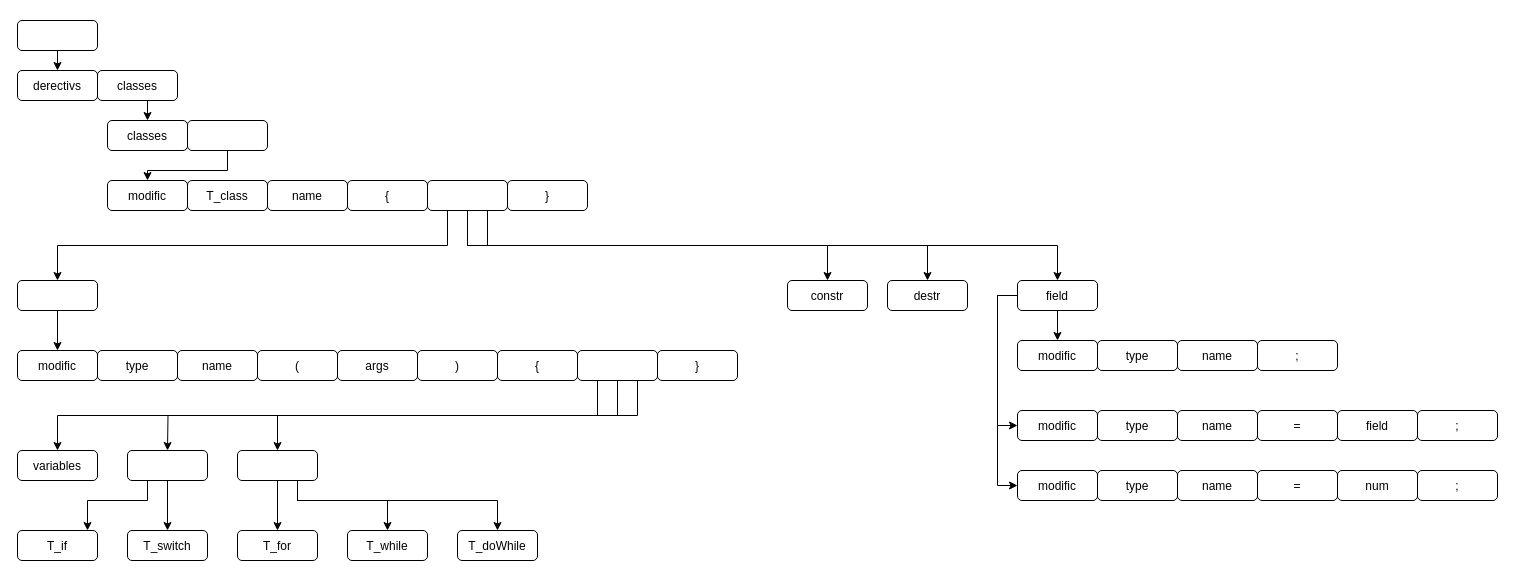
Image size: 1515x581. Some labels were removed from this diagram. Here are the shapes that lost their labels. From the top down, the centre of each, then its label:
(57,35): programm
(227,135): class
(467,195): body_class
(57,295): method
(617,365): body
(167,465): conditions
(277,465): cycles
